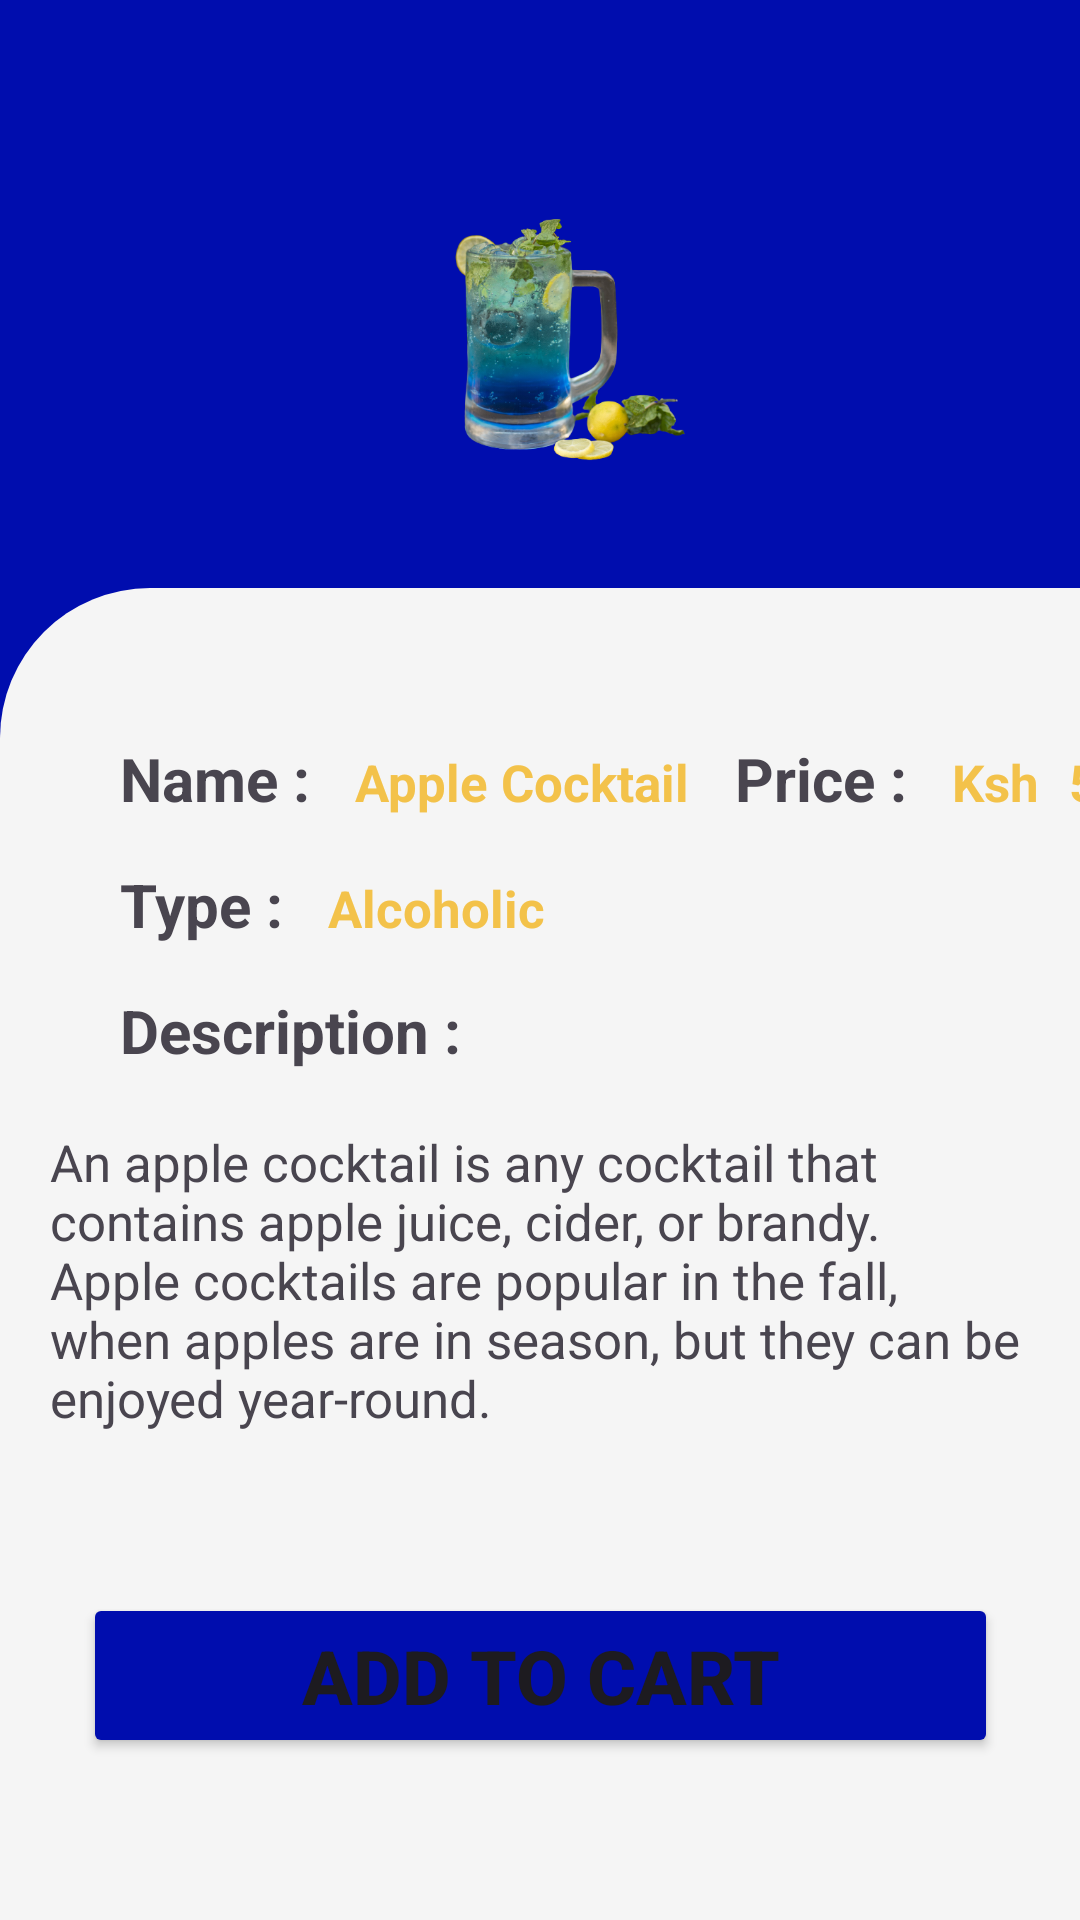

Screen size 1080×1920. Icon name, then its center in pixels as (x=x, y=y):
cocktail: (x=570, y=339)
